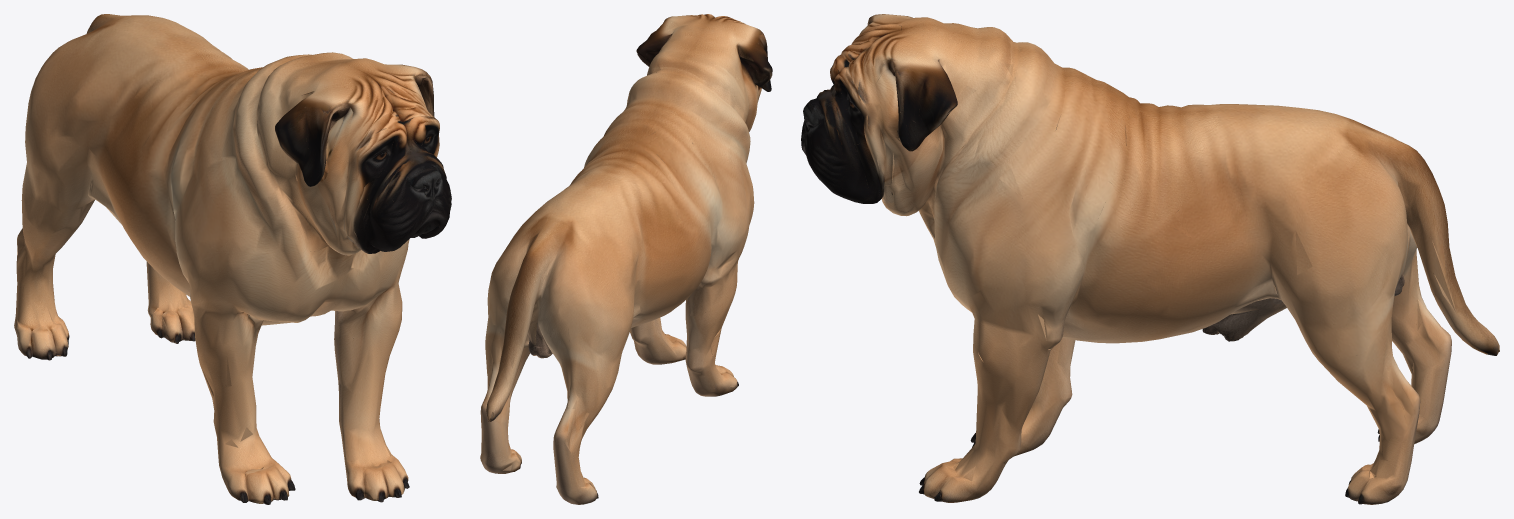
Rendered from meshy_textured.fbx.
The picture shows the model from 3 angles, left to right: view 1: azimuth 30°, elevation 25°; view 2: azimuth 150°, elevation 25°; view 3: azimuth 270°, elevation 25°; orthographic projection. The views are drawn at different scales.
Parts seen in each view (by area): view 1: Mesh_0; view 2: Mesh_0; view 3: Mesh_0.
Part boxes in pixels (x1,y1,x2,y2): Mesh_0: (14, 14, 451, 504); Mesh_0: (480, 14, 772, 504); Mesh_0: (801, 14, 1499, 504).
Size of the model in its own units: 65.35 by 134 by 190.
1 material, 1 textured.
